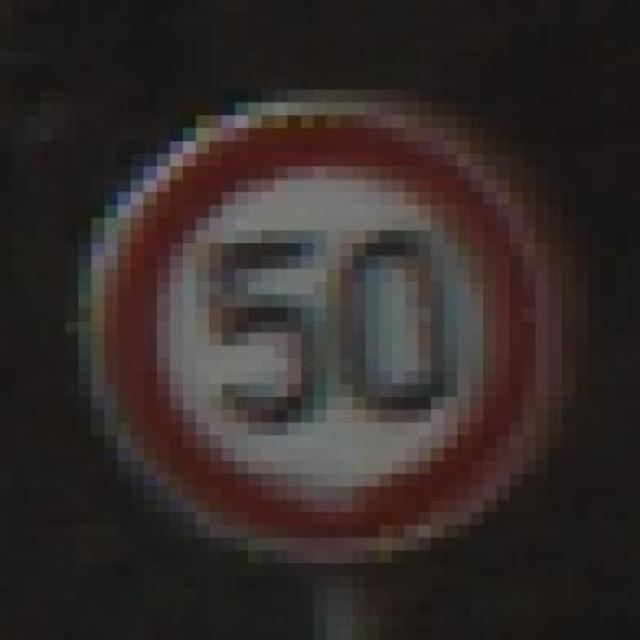50 mph speed limit: (78, 77, 600, 563)
